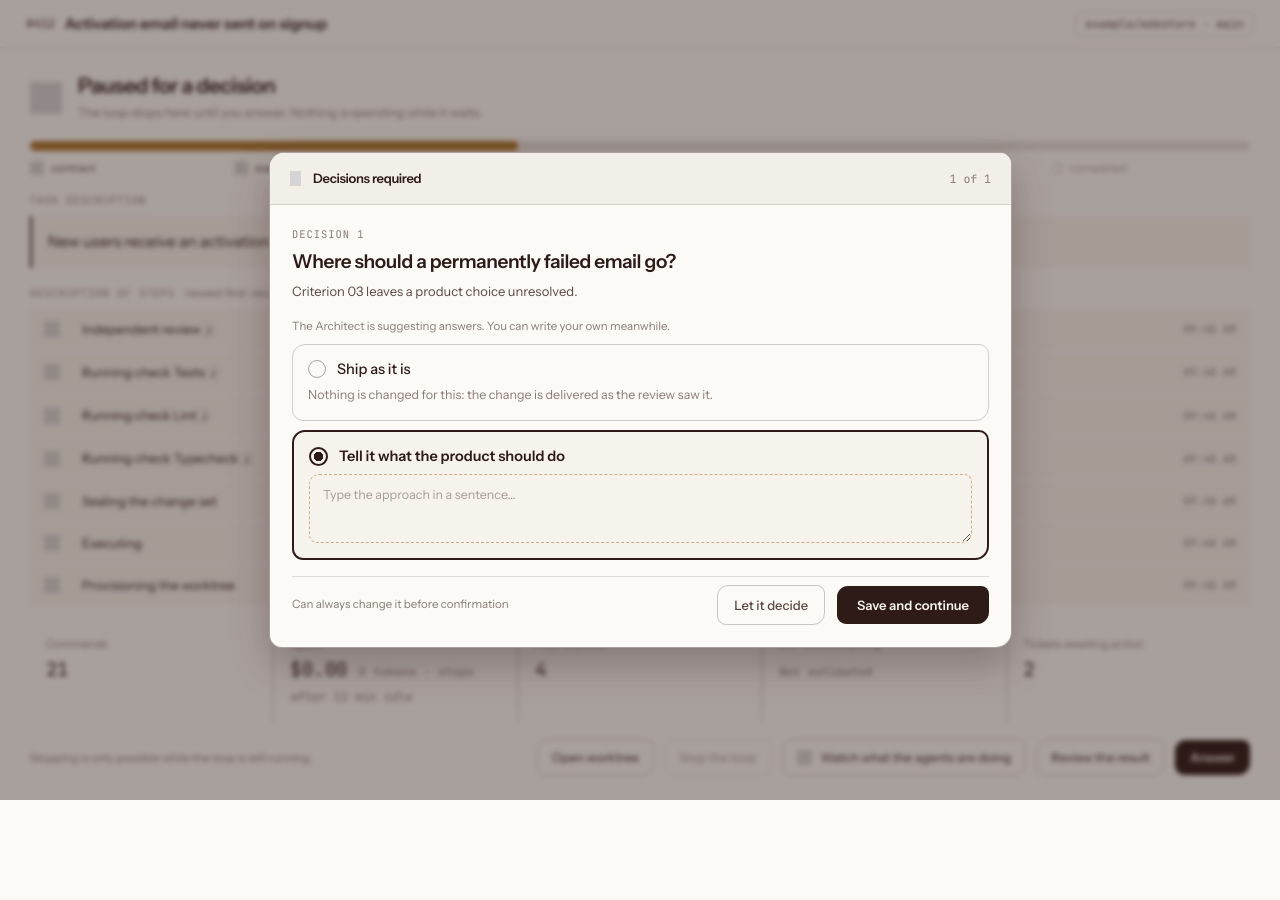
Test case: the decision card › sends a typed answer on Enter, as Save and continue does, and nothing when nothing is typed
Press Enter in the text box named "Your approach", box left=308, top=474, right=972, bottom=543
Expected: the dialog "Decisions required" is shown, left=268, top=152, right=1012, bottom=648
In the text box named "Your approach": (640, 509) left=308, top=474, right=972, bottom=543, type "Park it on the dead-letter queue."
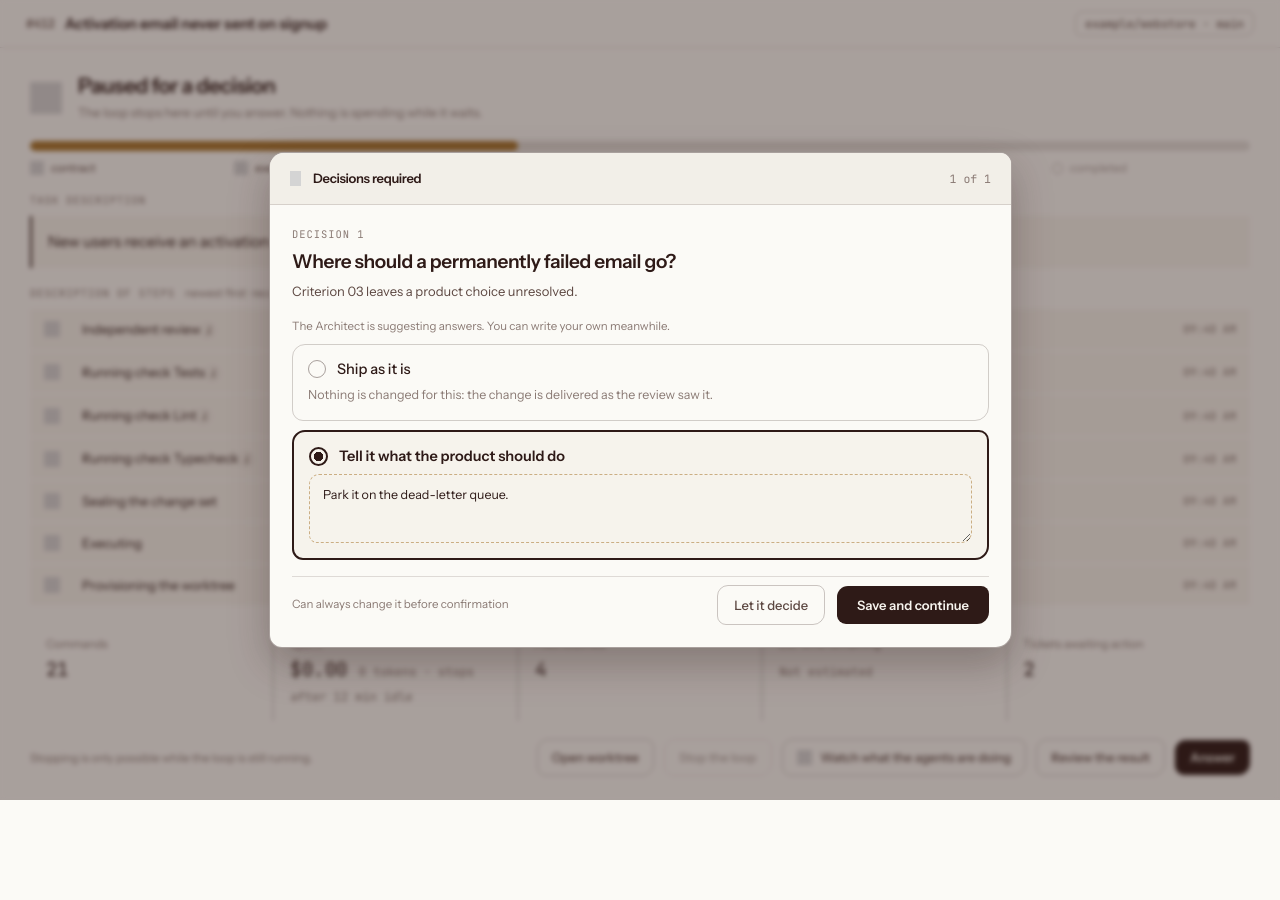
Press Enter in the text box named "Your approach", box left=308, top=474, right=972, bottom=543
Expected: the dialog "Decisions required" is shown, left=268, top=152, right=1012, bottom=648
Press Enter in the text box named "Your approach", box left=308, top=474, right=972, bottom=543
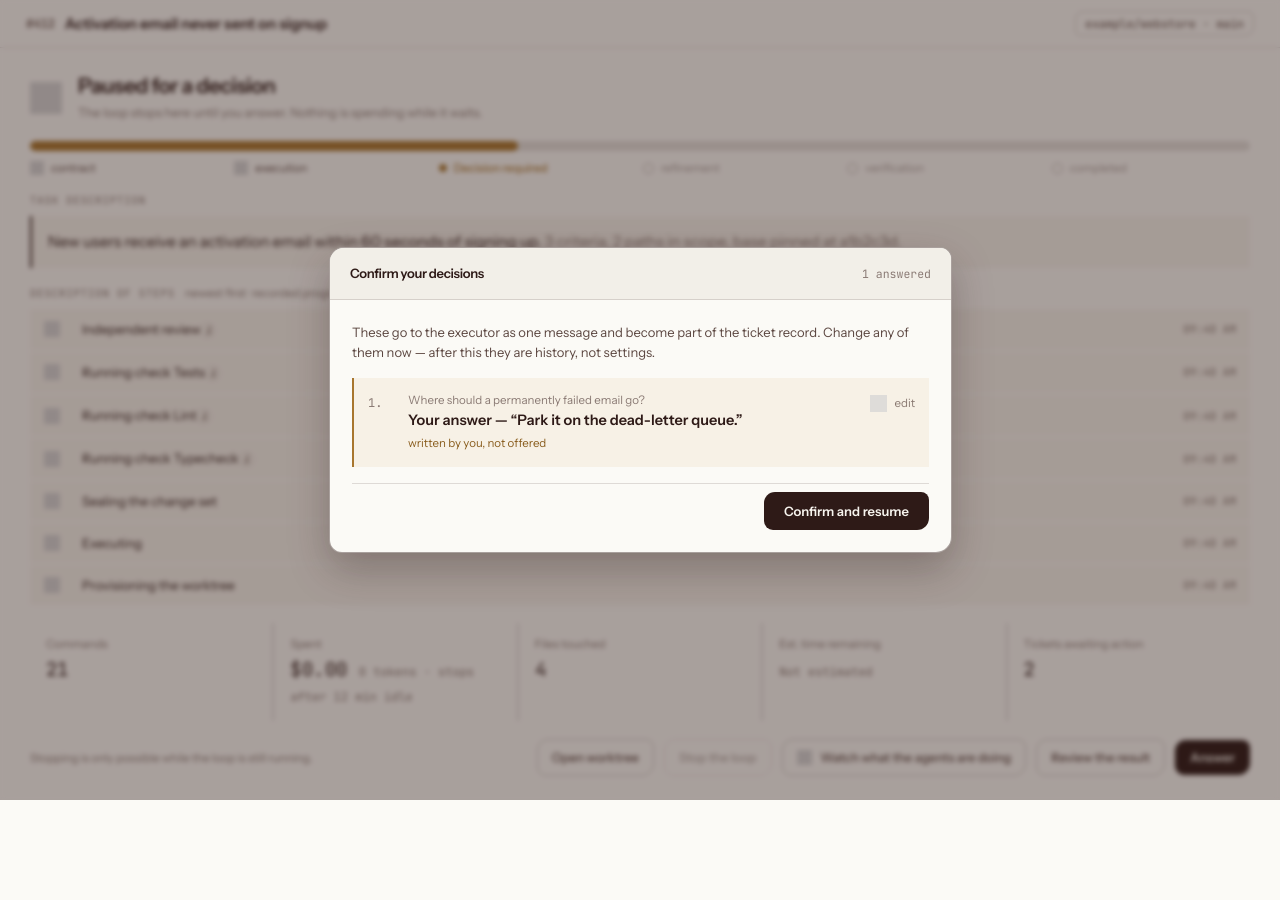
Now the text "Your answer — “Park it on the dead-letter queue.”" is shown, box left=408, top=411, right=742, bottom=429
